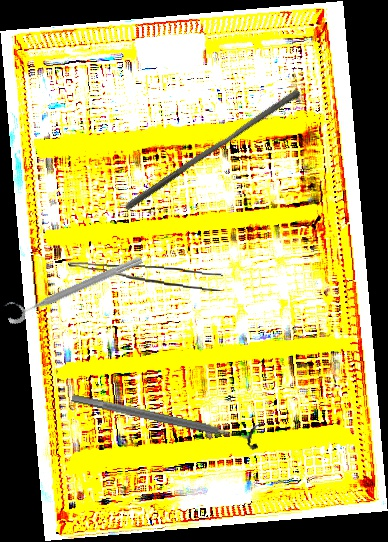Fixation Ring: (69, 383, 263, 452), (1, 244, 145, 327)
Pusher: (122, 81, 303, 219)
Tissue Forceps: (67, 261, 223, 292)
